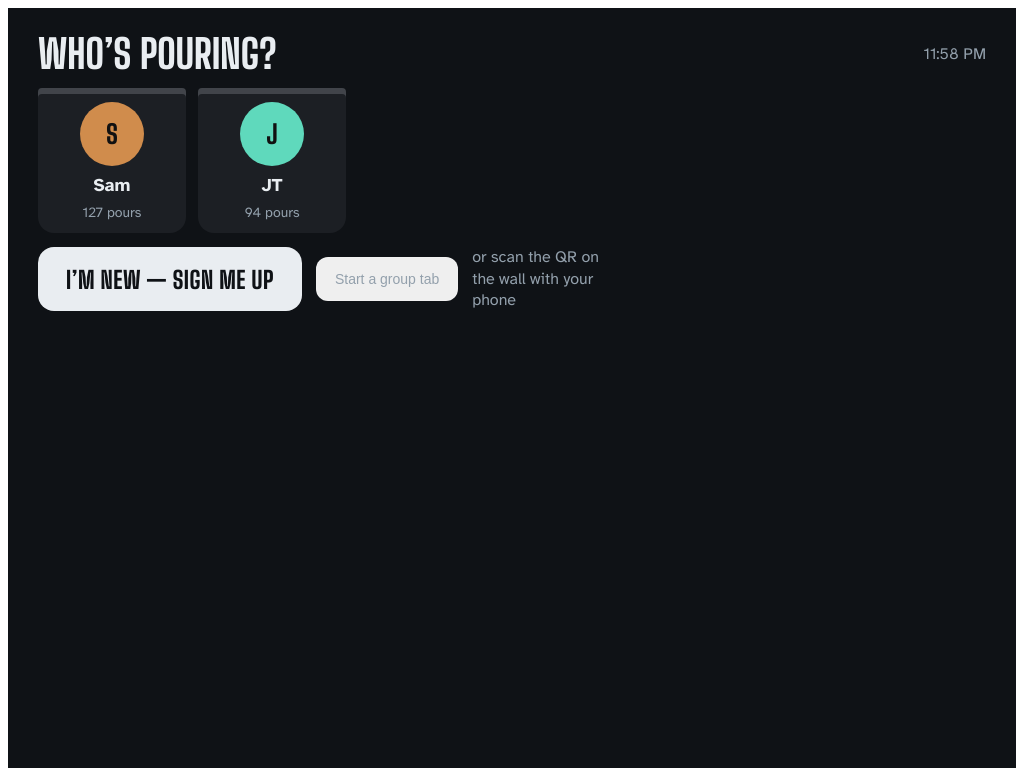
TabletPage (design 3a) › ignores pour_attributed for a different pourer's drinkerId
Click the button with test id "tablet-avatar" showing "S Sam 127 pours" at (112, 160), box left=38, top=88, right=186, bottom=233
(page scrolled)
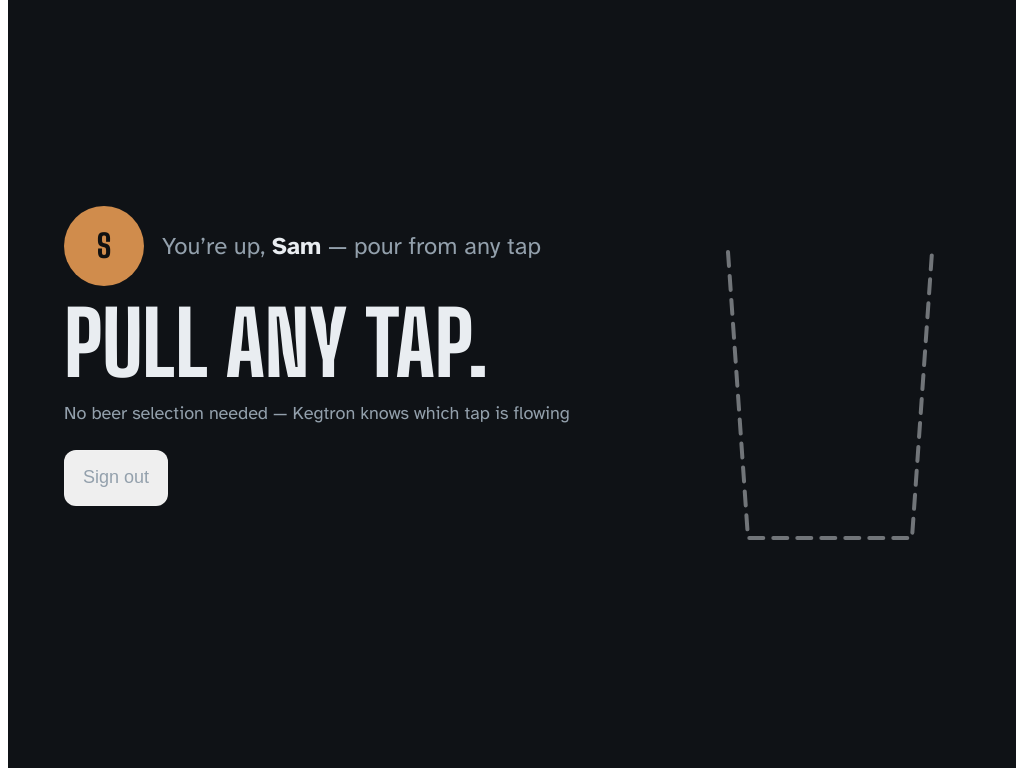
Expected: the element with test id "tablet-armed" is shown, left=64, top=206, right=940, bottom=546
